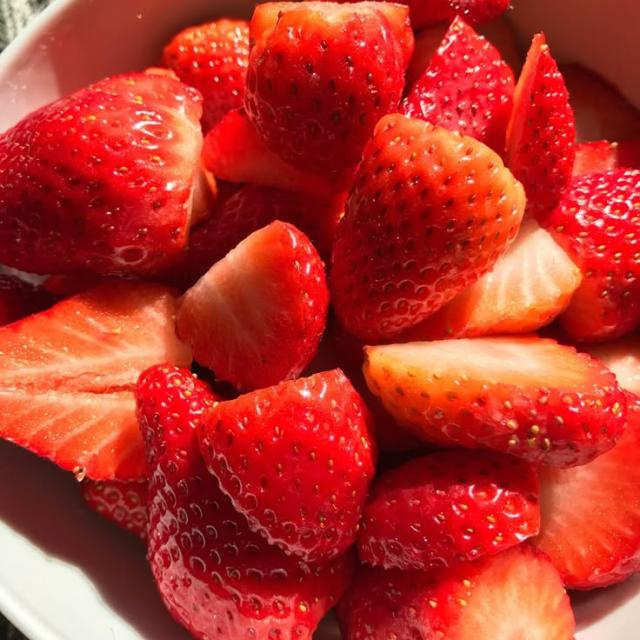strawberry sliced: (136, 365, 353, 639), (331, 114, 525, 343), (0, 73, 201, 278), (0, 282, 191, 479), (365, 336, 626, 466), (200, 370, 375, 562), (245, 2, 413, 173), (176, 221, 328, 391), (338, 544, 574, 639), (399, 220, 582, 341), (358, 450, 539, 570), (531, 394, 639, 588), (184, 185, 346, 285), (547, 169, 639, 341), (400, 18, 514, 154), (202, 110, 353, 196), (506, 34, 575, 218), (162, 19, 249, 133), (560, 64, 639, 142), (82, 480, 147, 541), (357, 0, 413, 66), (587, 334, 639, 395), (401, 0, 508, 29), (0, 273, 56, 326), (406, 23, 449, 92), (573, 139, 639, 176)
